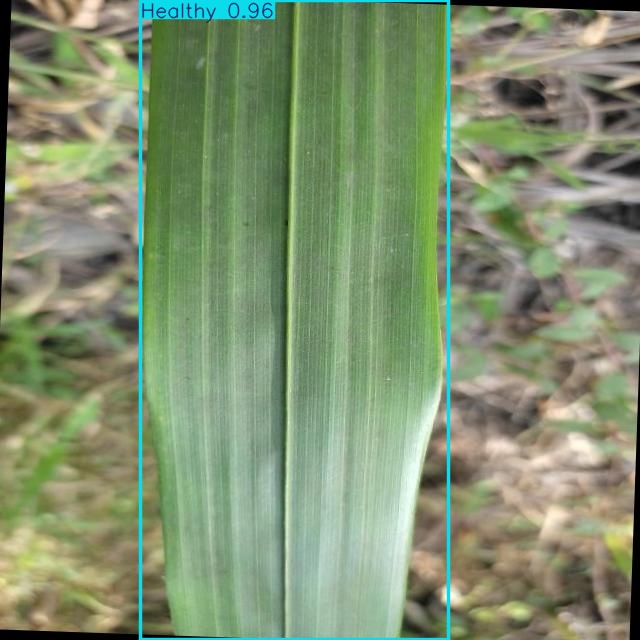Healthy: (140, 0, 448, 640)
